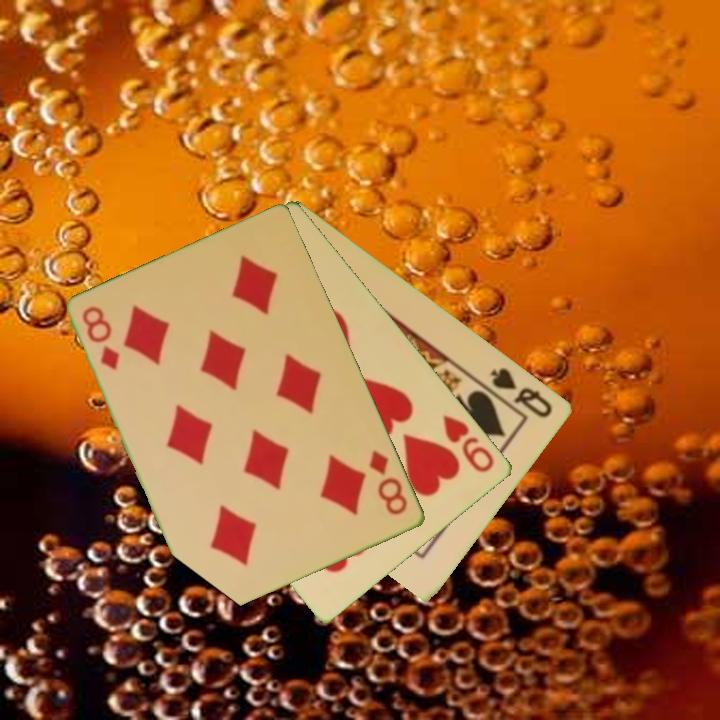8d: (365, 446, 411, 518), (79, 302, 124, 374)
9h: (439, 411, 498, 476)
Qs: (487, 363, 556, 421)
